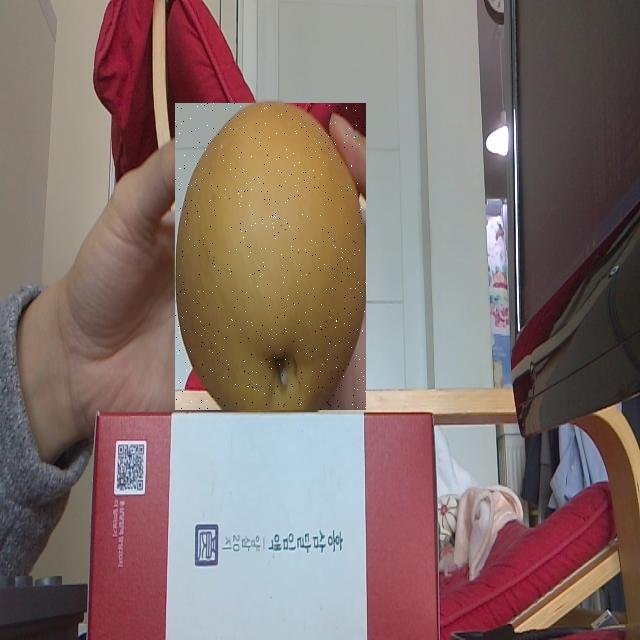pear: (175, 103, 366, 410)
